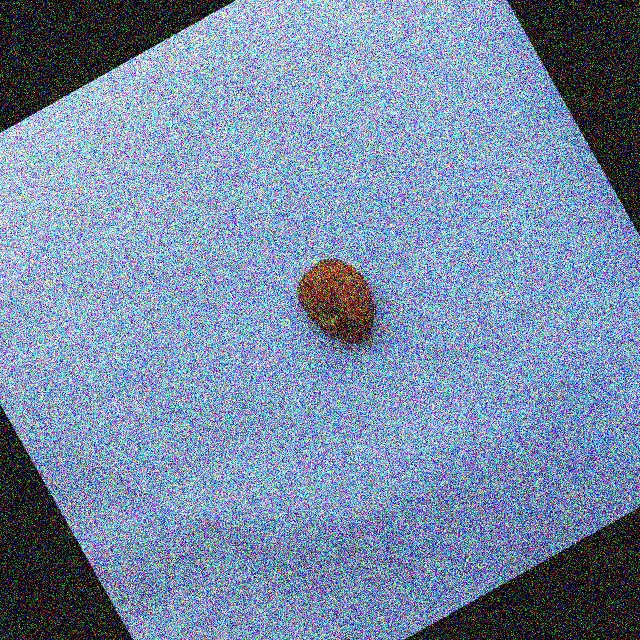grade3: (281, 242, 394, 365)
